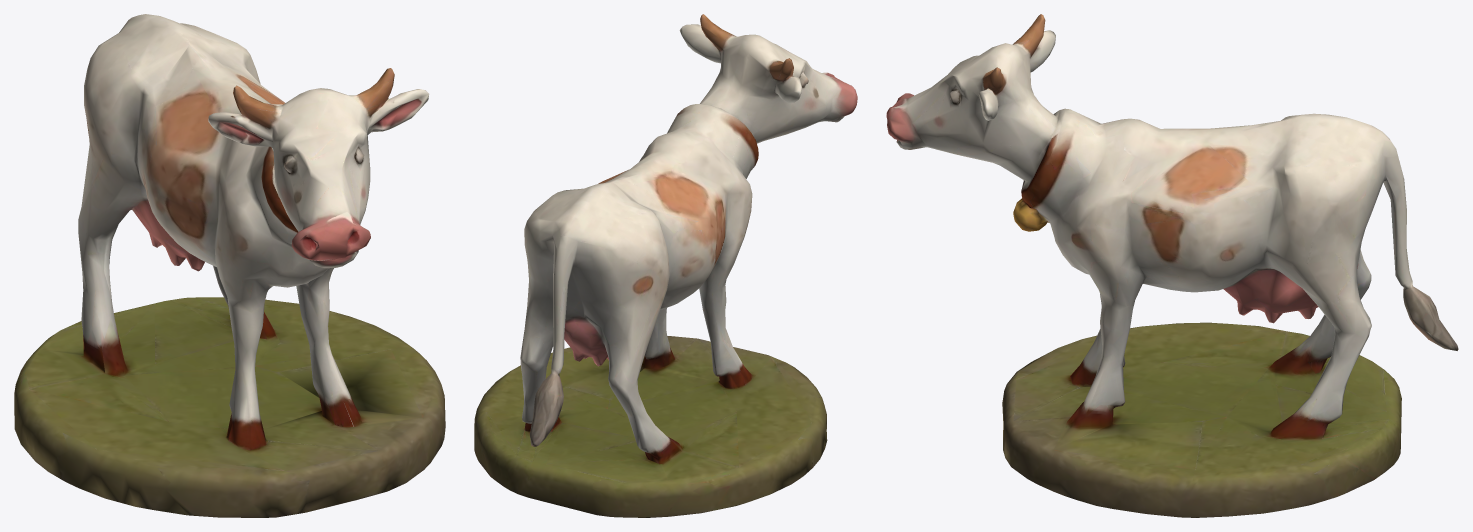
Rendered from token-cow.glb.
The picture shows the model from 3 angles, left to right: view 1: azimuth 30°, elevation 25°; view 2: azimuth 150°, elevation 25°; view 3: azimuth 270°, elevation 25°; orthographic projection. The views are drawn at different scales.
Bounding box in the file's own units: 1.29 × 1.43 × 1.9.
Materials: 1 (1 with a texture image).
